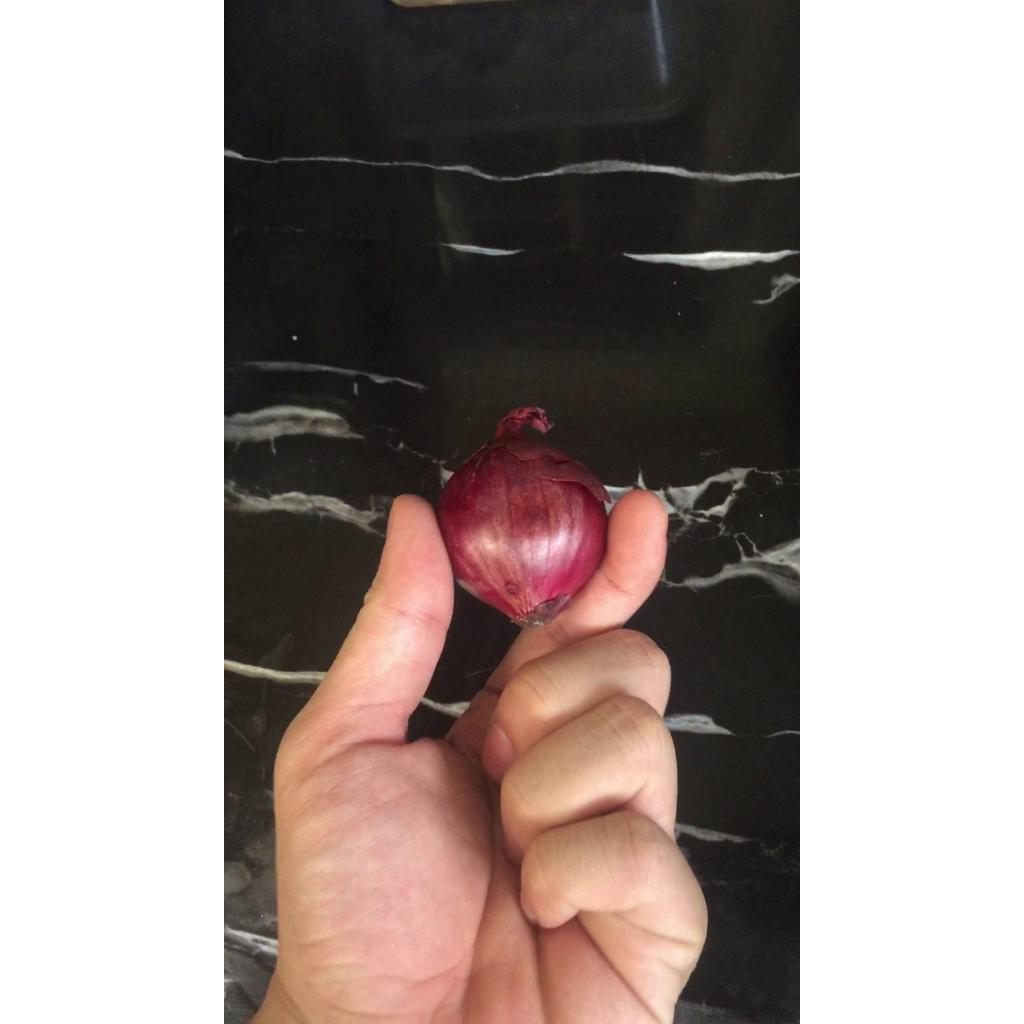Onion: (436, 407, 610, 628)
